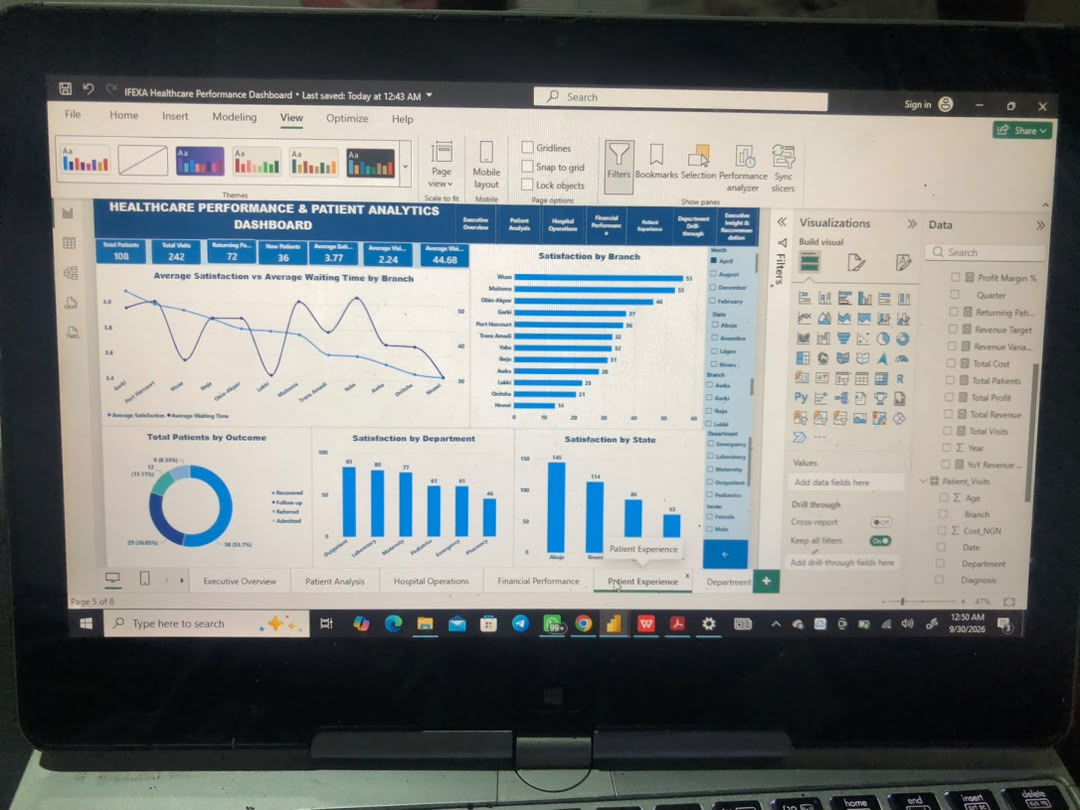

What the dashboard file says about the page in this screenshot:
{"tool":"powerbi","page":{"name":"Patient Experience","canvas":[1920,1080],"ordinal":4},"visuals":[{"type":"clusteredBarChart","title":"Satisfaction by Branch","fields":{"Category":["Patient_Visits.Branch"],"Y":["Sum(Patient_Visits.Satisfaction_Score)"]},"box":[1075,112.5,697.5,542.5],"z":0},{"type":"clusteredColumnChart","title":"Satisfaction by Department","fields":{"Category":["Patient_Visits.Department"],"Y":["Sum(Patient_Visits.Satisfaction_Score)"]},"box":[610.2,654.8,597.4,425.2],"z":1000},{"type":"lineChart","title":"Average Satisfaction vs Average Waiting Time by Branch","fields":{"Category":["Patient_Visits.Branch"],"Y":["Date_Table.Average Satisfaction"],"Y2":["Date_Table.Average Waiting Time"]},"box":[0,185,1075,470],"z":2000},{"type":"donutChart","fields":{"Category":["Patient_Visits.Outcome"],"Y":["Date_Table.Total Patients"]},"box":[0,654.8,610.2,425.2],"z":3000},{"type":"clusteredColumnChart","title":"Satisfaction by State","fields":{"Category":["Patient_Visits.State"],"Y":["Sum(Patient_Visits.Satisfaction_Score)"]},"box":[1207.6,654.8,574,425.2],"z":4000},{"type":"slicer","fields":{"Values":["Patient_Visits.State"]},"box":[1783,300,136.2,178.7],"z":5000},{"type":"slicer","fields":{"Values":["Date_Table.Month"]},"box":[1772.5,112.5,147.5,182.5],"z":6000},{"type":"slicer","fields":{"Values":["Patient_Visits.Branch"]},"box":[1773.1,478.3,146.7,176.5],"z":7000},{"type":"slicer","fields":{"Values":["Patient_Visits.Department"]},"box":[1780.9,655.3,138.3,208.5],"z":8000},{"type":"slicer","fields":{"Values":["Patient_Visits.Gender"]},"box":[1783,880.9,127.7,108.5],"z":9000},{"type":"pageNavigator","box":[1032.5,0,887.5,112.5],"z":10000},{"type":"textbox","box":[0,0,1032.5,112.5],"z":11000},{"type":"cardVisual","fields":{"Data":["Date_Table.Total Visits"]},"box":[160,112.5,144.9,73.5],"z":12000},{"type":"cardVisual","fields":{"Data":["Date_Table.Total Patients"]},"box":[0,112.5,146.9,73.5],"z":13000},{"type":"cardVisual","fields":{"Data":["Date_Table.Returning Patients"]},"box":[320,110,144.9,71.4],"z":14000},{"type":"cardVisual","fields":{"Data":["Date_Table.New Patients"]},"box":[465,112.5,144.6,72.3],"z":15000},{"type":"cardVisual","fields":{"Data":["Date_Table.Average Satisfaction"]},"box":[610,112.5,144.6,70.2],"z":16000},{"type":"cardVisual","fields":{"Data":["Date_Table.Average Visits per Patient"]},"box":[765,112.5,145,72.5],"z":17000},{"type":"cardVisual","fields":{"Data":["Date_Table.Average Waiting Time"]},"box":[930,112.5,144.6,70.2],"z":18000},{"type":"actionButton","box":[1783.7,988.6,136.1,91.4],"z":19000}]}

Visuals, with their boxes on the page's 1920x1080 design canvas (x1, y1, x2, y2). These are canvas units, not pixel positions in the 1080x810 screenshot, which may show the page scaled, cropped or inside an application window:
"Satisfaction by Branch" clusteredBarChart: (1075, 112, 1772, 655)
"Satisfaction by Department" clusteredColumnChart: (610, 655, 1208, 1080)
"Average Satisfaction vs Average Waiting Time by Branch" lineChart: (0, 185, 1075, 655)
donutChart - Patient_Visits.Outcome x Date_Table.Total Patients: (0, 655, 610, 1080)
"Satisfaction by State" clusteredColumnChart: (1208, 655, 1782, 1080)
slicer - Patient_Visits.State: (1783, 300, 1919, 479)
slicer - Date_Table.Month: (1772, 112, 1920, 295)
slicer - Patient_Visits.Branch: (1773, 478, 1920, 655)
slicer - Patient_Visits.Department: (1781, 655, 1919, 864)
slicer - Patient_Visits.Gender: (1783, 881, 1911, 989)
pageNavigator: (1032, 0, 1920, 112)
textbox: (0, 0, 1032, 112)
cardVisual - Date_Table.Total Visits: (160, 112, 305, 186)
cardVisual - Date_Table.Total Patients: (0, 112, 147, 186)
cardVisual - Date_Table.Returning Patients: (320, 110, 465, 181)
cardVisual - Date_Table.New Patients: (465, 112, 610, 185)
cardVisual - Date_Table.Average Satisfaction: (610, 112, 755, 183)
cardVisual - Date_Table.Average Visits per Patient: (765, 112, 910, 185)
cardVisual - Date_Table.Average Waiting Time: (930, 112, 1075, 183)
actionButton: (1784, 989, 1920, 1080)
